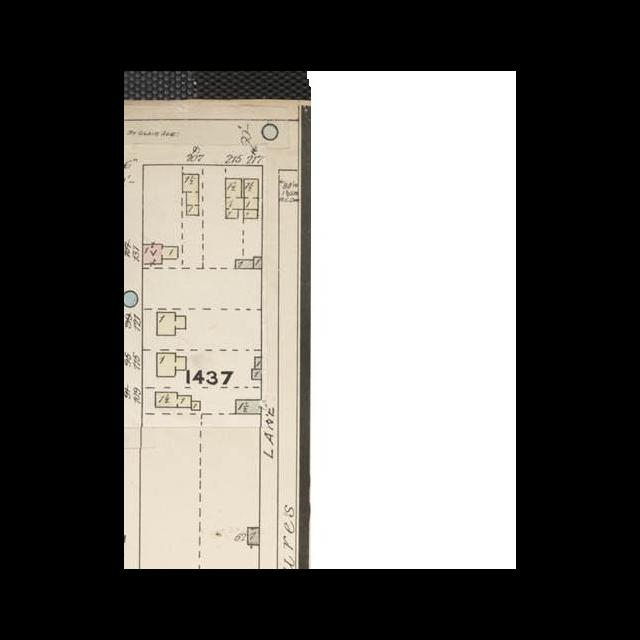building-footprints: (156, 353, 187, 377), (182, 174, 199, 216), (226, 179, 244, 218), (143, 244, 178, 264), (157, 312, 186, 335), (244, 179, 259, 219), (155, 392, 192, 408), (235, 400, 262, 414), (247, 528, 259, 545), (235, 259, 254, 268), (252, 369, 262, 379), (191, 401, 201, 410), (254, 257, 262, 268), (255, 357, 261, 369)
